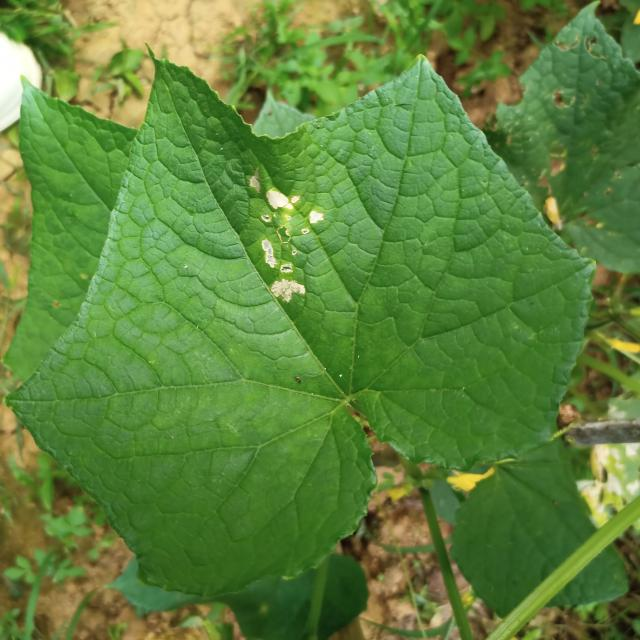disease_cucumber: (243, 170, 326, 310)
